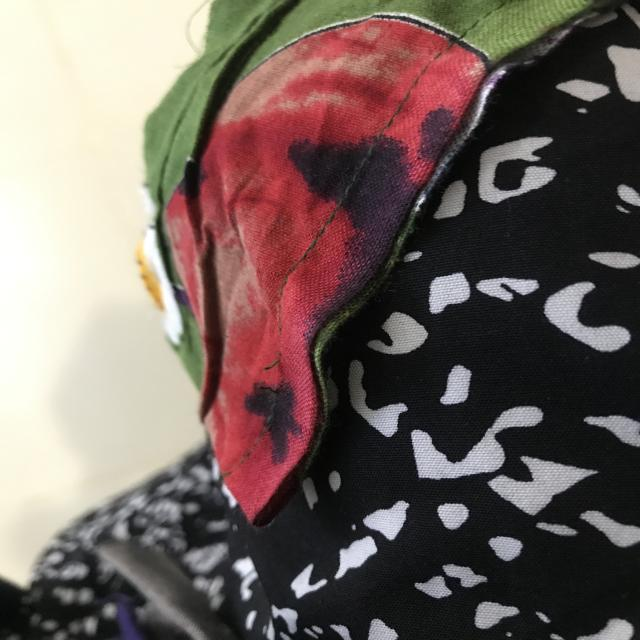broken: (248, 354, 303, 401)
